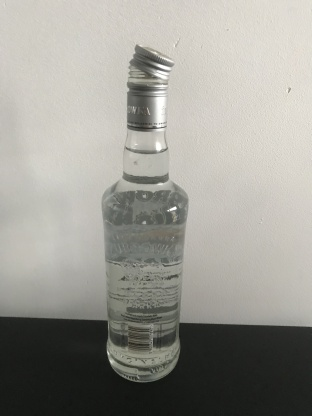nakretka: (125, 42, 176, 132)
